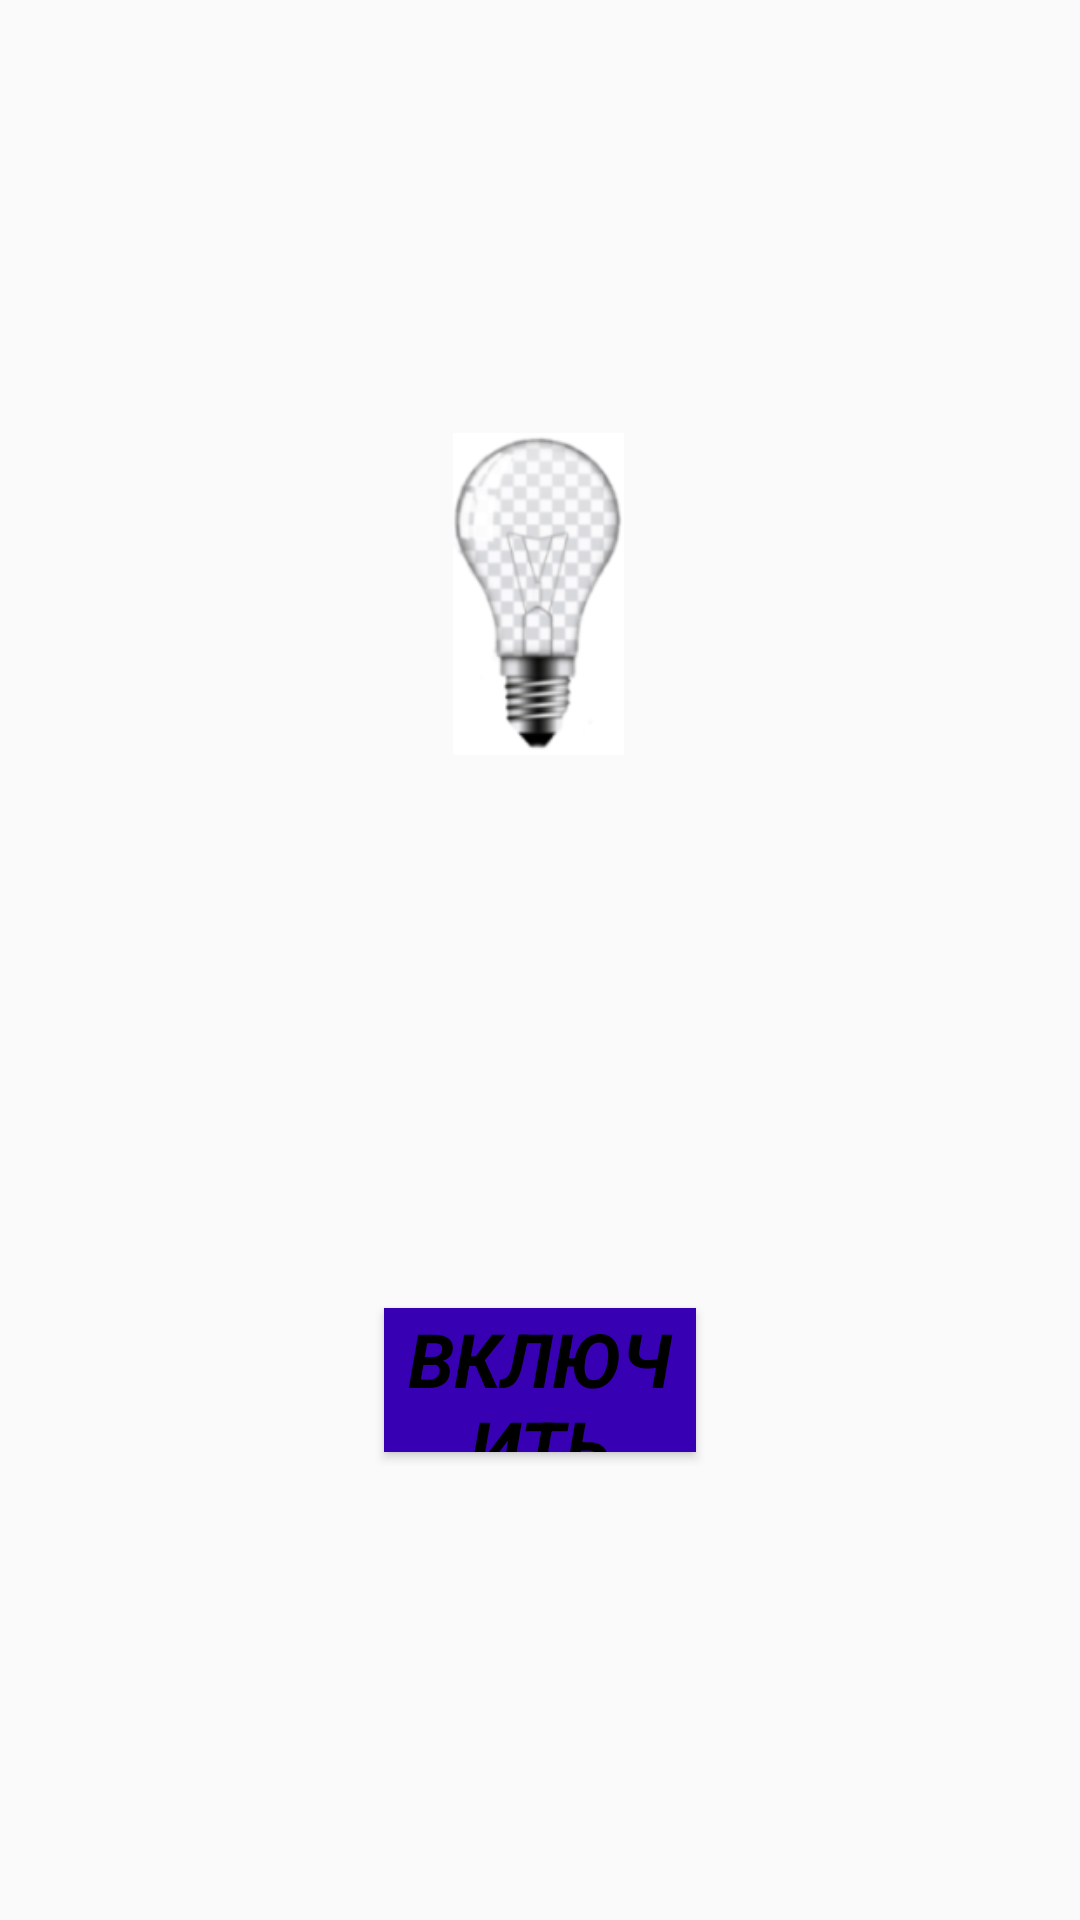

Icons on this 1080px×1920px Android screen, each with its box as (x1, y1, x2, y2):
lamp off: (454, 438, 621, 748)
